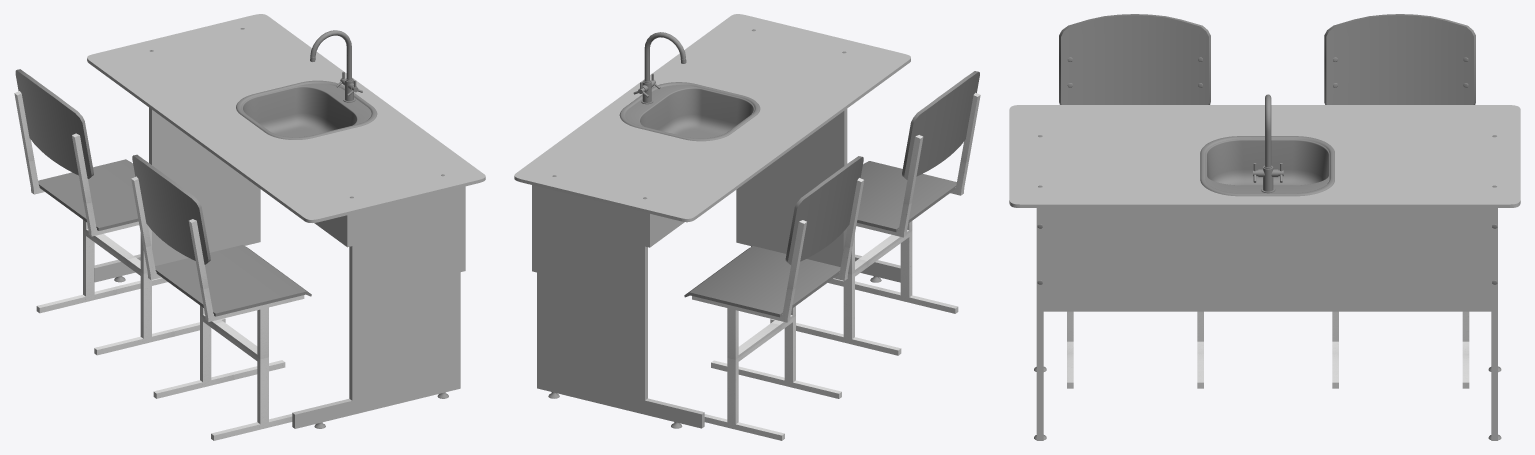
File: TableSchool03.FBX
The picture shows the model from 3 angles, left to right: view 1: azimuth 30°, elevation 25°; view 2: azimuth 150°, elevation 25°; view 3: azimuth 270°, elevation 25°; orthographic projection. The views are drawn at different scales.
Parts seen in each view (by area): view 1: TableWood, TableMetall, TableChrome; view 2: TableWood, TableMetall, TableChrome; view 3: TableWood, TableChrome, TableMetall.
Boxes of the visible parts, left/top/right/bottom form: TableWood: left=15, top=14, right=485, bottom=428; TableMetall: left=14, top=91, right=304, bottom=440; TableChrome: left=114, top=28, right=448, bottom=428; TableWood: left=514, top=14, right=979, bottom=428; TableMetall: left=692, top=92, right=980, bottom=440; TableChrome: left=548, top=29, right=881, bottom=428; TableWood: left=1009, top=14, right=1520, bottom=440; TableChrome: left=1034, top=57, right=1501, bottom=440; TableMetall: left=1067, top=311, right=1469, bottom=388.
Bounding box in the file's own units: 10.69 × 10.86 × 15.04.
